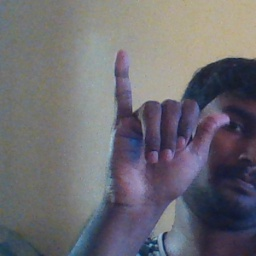J: (101, 47, 231, 205)
